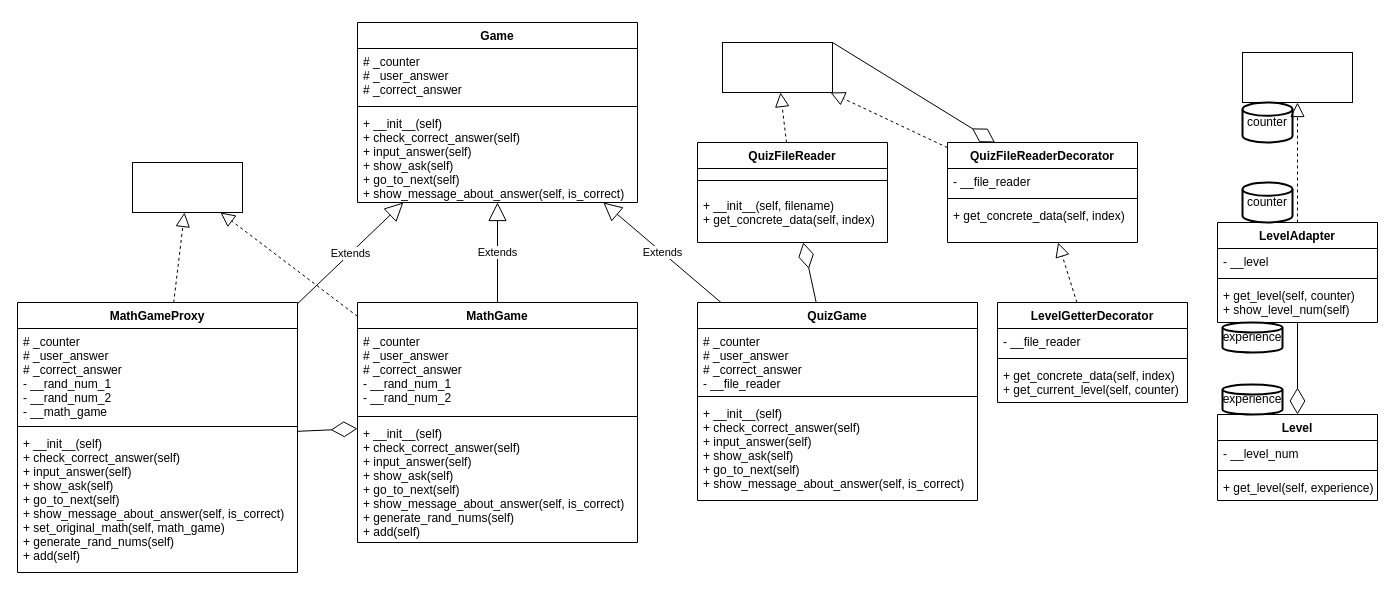
The diagram is 1395 pixels wide and 593 high, and some of its shapes have lost their labels. Here are the shapes that lost their labels. From the top down, the centre of each, then its label:
the point at 777,67: «interface» IFileReader
the point at 1297,77: «interface» ILevelSystem
the point at 187,187: «interface» IMath
